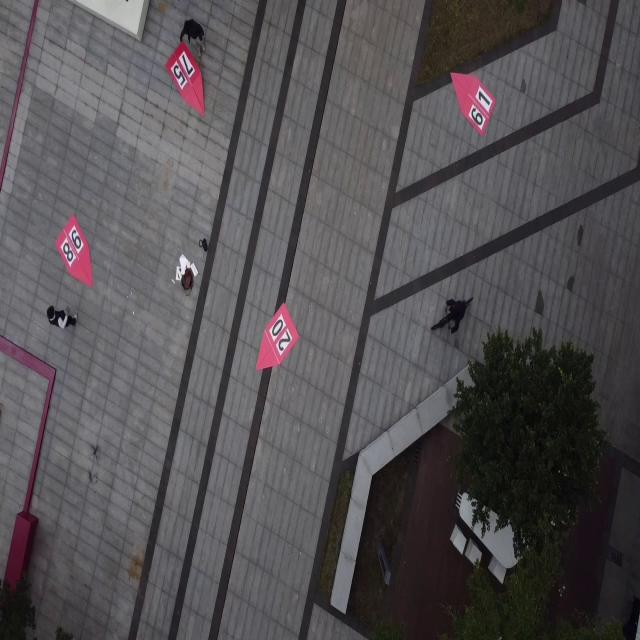-sign-: (254, 302, 300, 372), (165, 41, 206, 119), (451, 70, 495, 137), (55, 215, 94, 289)
